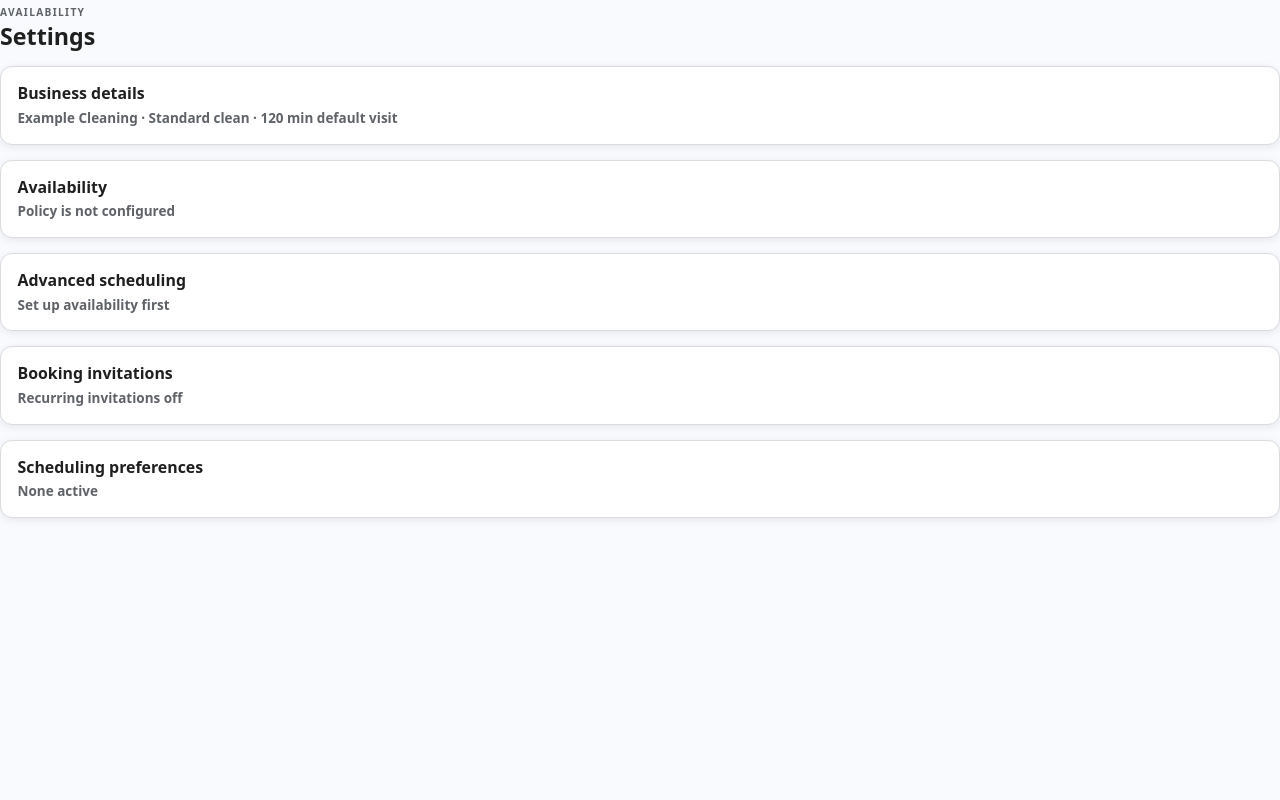
Test: owner Settings › loads a pilot policy from Availability when no policy exists
Click the button with aria-label "Edit Availability" at (62, 187), box [0, 160, 1279, 238]
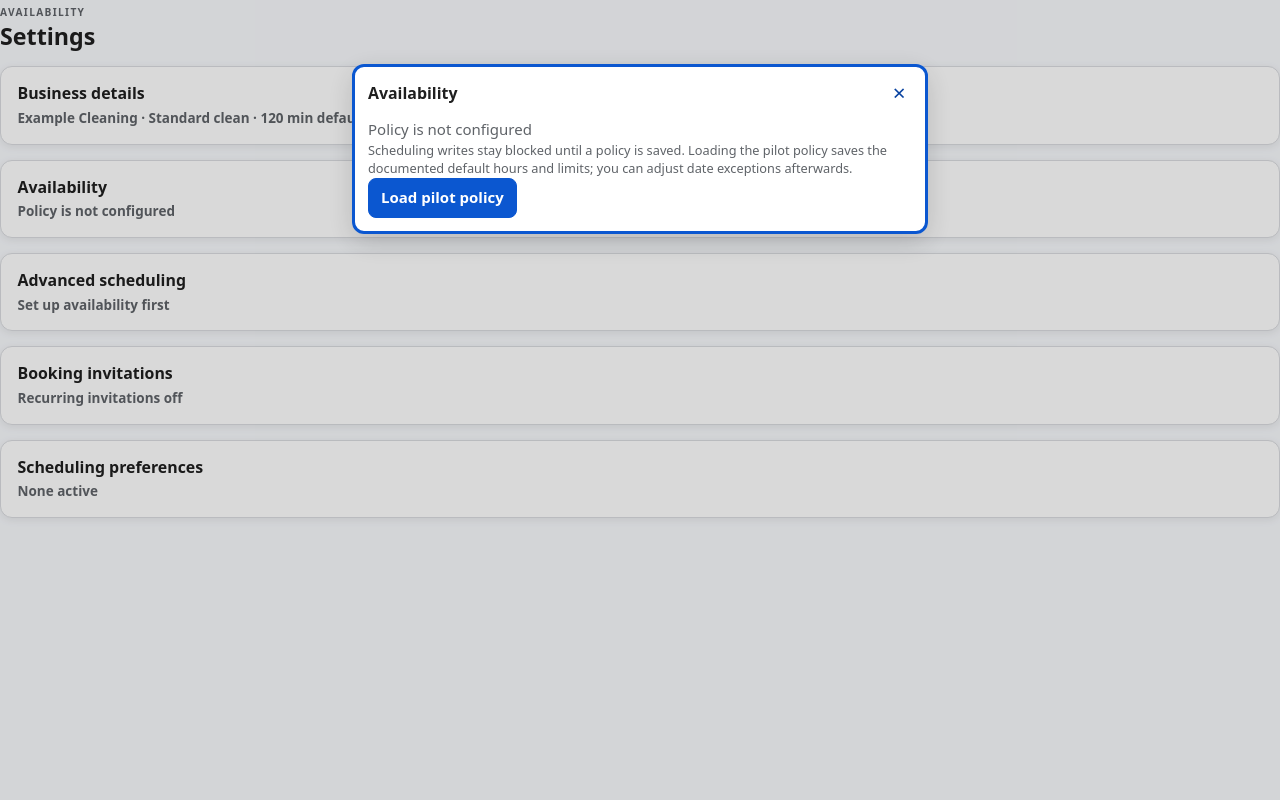
Click the button "Load pilot policy" at (442, 198), box [368, 178, 517, 218]
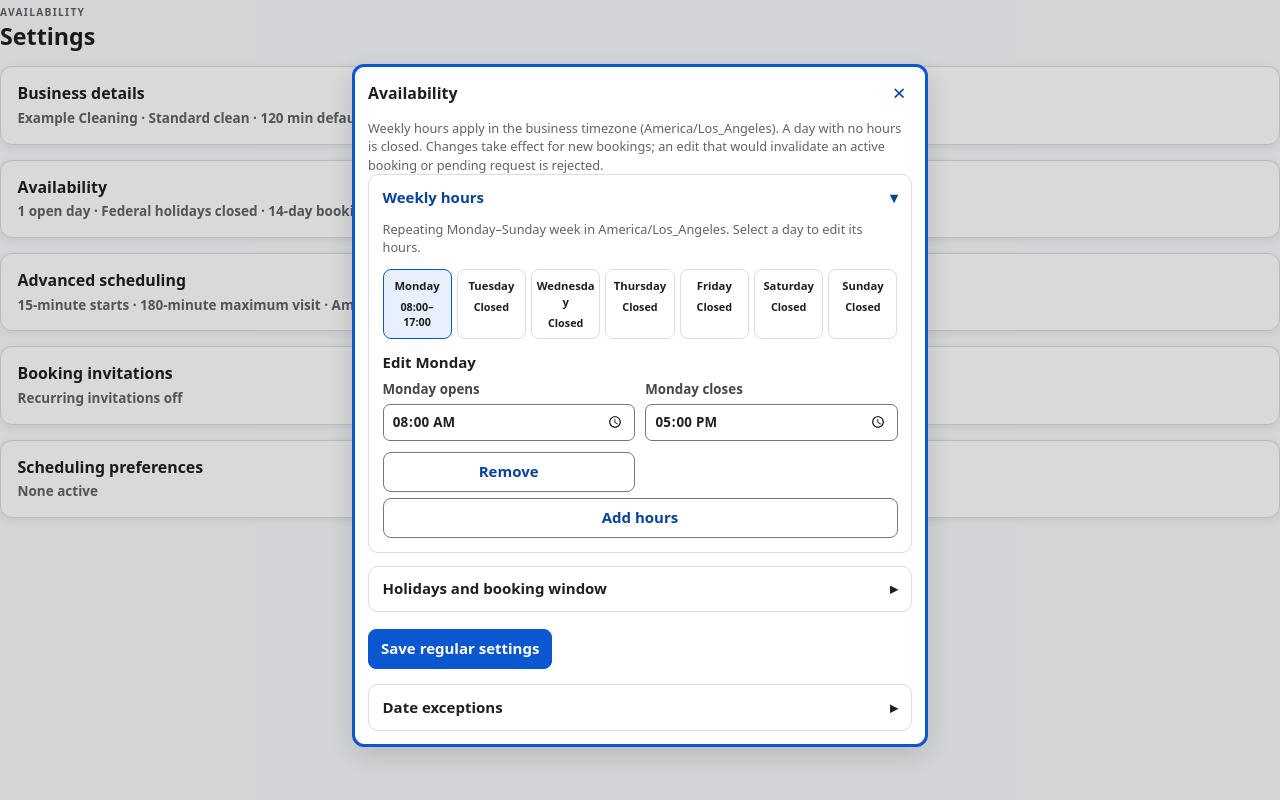
Now the number of buttons with class "weekly-day" is 7
Now the button with aria-label "Edit Availability" shows "1 open day", box [0, 160, 1279, 238]
